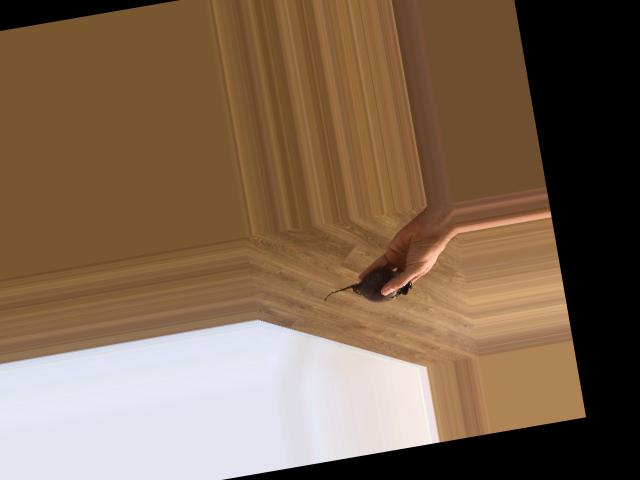beet: (319, 264, 413, 311)
